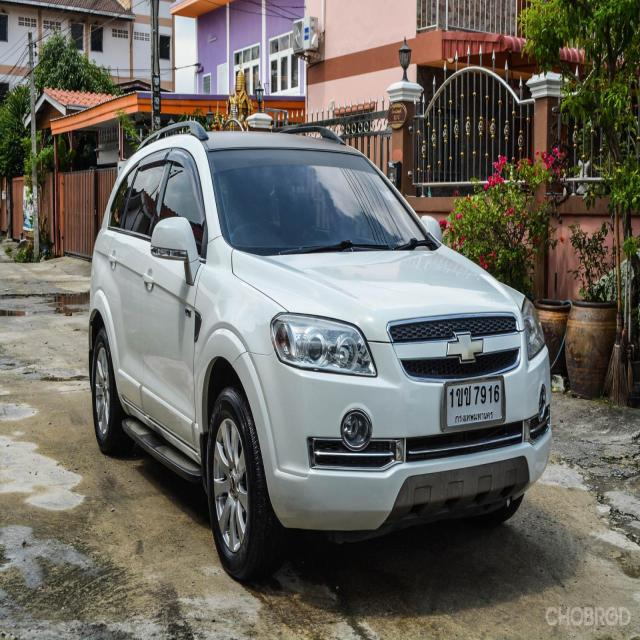license_plate: (438, 373, 510, 438)
